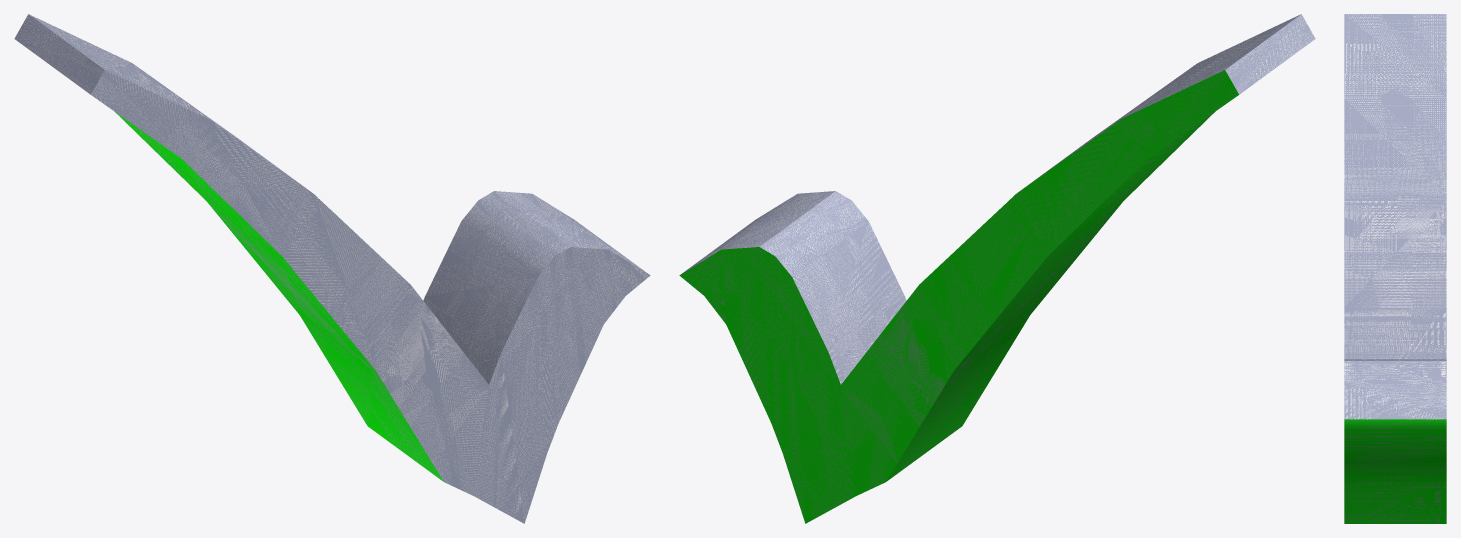
The model's file is checkmark.obj.
3 views of the same model, side by side, from view 1: azimuth 30°, elevation 25°; view 2: azimuth 150°, elevation 25°; view 3: azimuth 270°, elevation 25° (orthographic). The views are drawn at different scales.
Parts seen in each view (by area): view 1: SketchUp.001_ID17, SketchUp_ID3; view 2: SketchUp_ID3, SketchUp.001_ID17; view 3: SketchUp.001_ID17, SketchUp_ID3.
Boxes of the visible parts, left/top/right/bottom form: SketchUp.001_ID17: left=14, top=14, right=650, bottom=523; SketchUp_ID3: left=115, top=112, right=443, bottom=481; SketchUp_ID3: left=679, top=70, right=1238, bottom=523; SketchUp.001_ID17: left=682, top=14, right=1315, bottom=384; SketchUp.001_ID17: left=1344, top=14, right=1446, bottom=419; SketchUp_ID3: left=1344, top=419, right=1446, bottom=523.
Size of the model in its own units: 1.83 by 1.73 by 0.4318.
